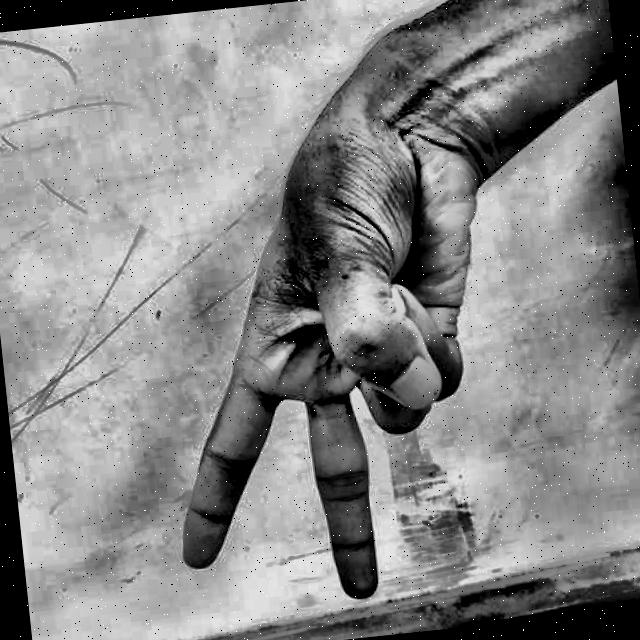Pa: (106, 59, 539, 640)
